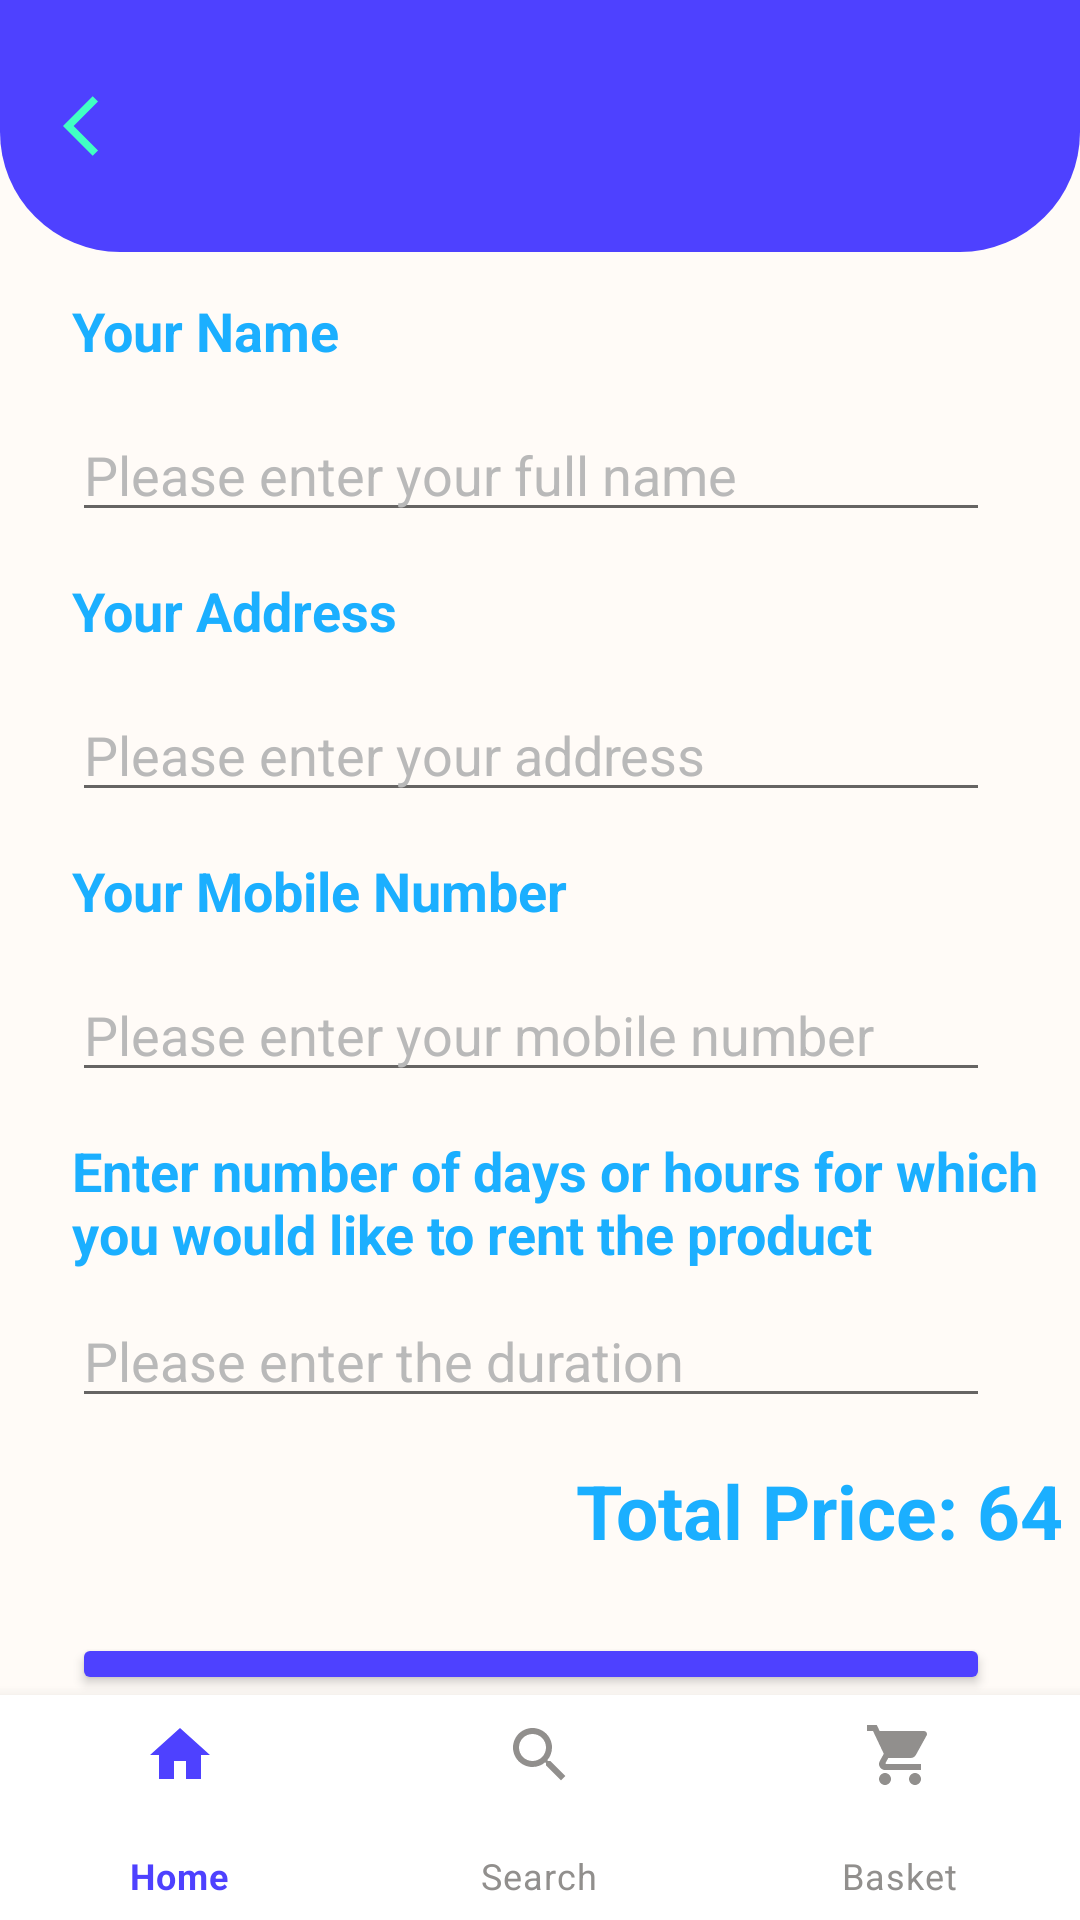

Point at icon controls on the screen. Image size 1080 x 1920, points as (x=x, y=y).
arrow back: (x=80, y=126)
